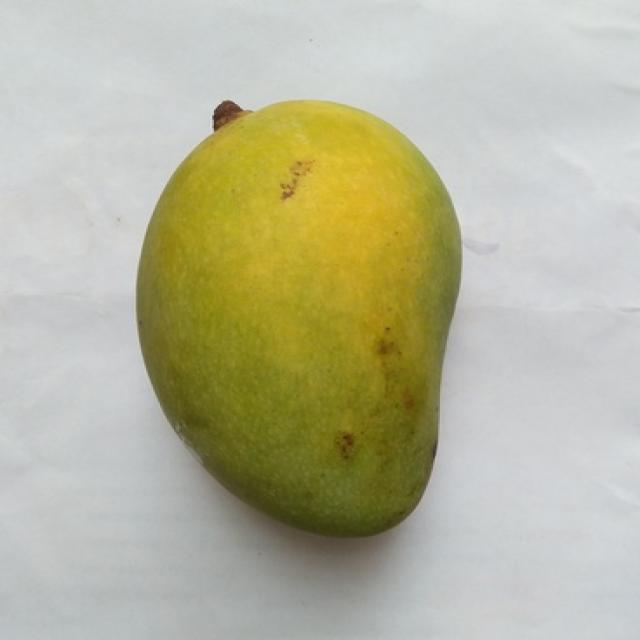Mango: (137, 101, 461, 535)
